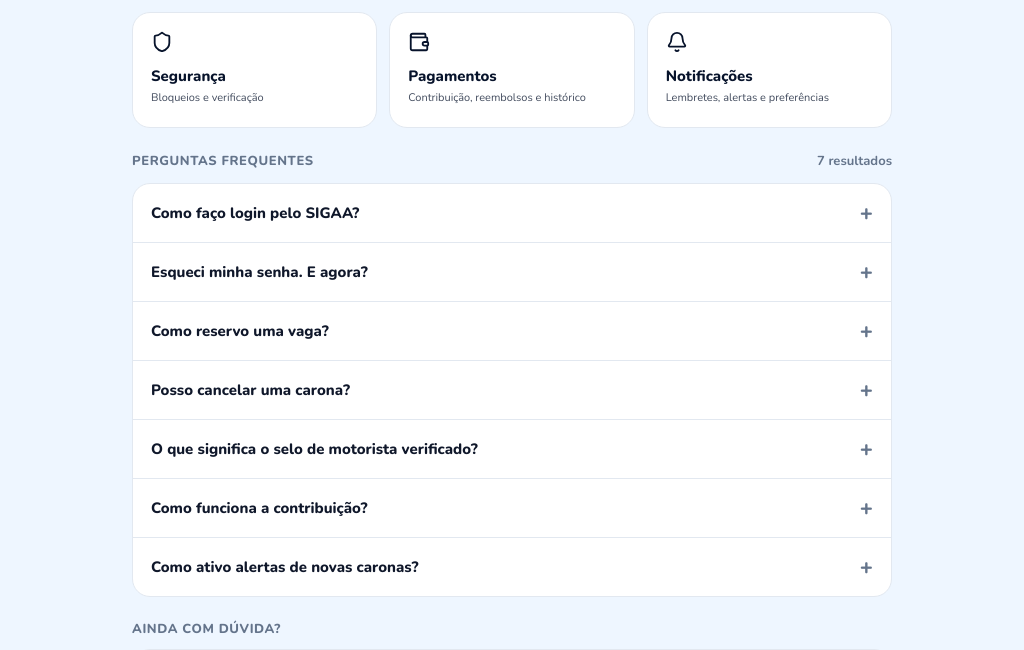
Test case: CentralAjuda › permite expandir uma pergunta do FAQ
This screenshot has width=1024, height=650.
(page scrolled)
Click the heading "Como funciona a contribuição?" at (259, 508), box [151, 498, 368, 518]
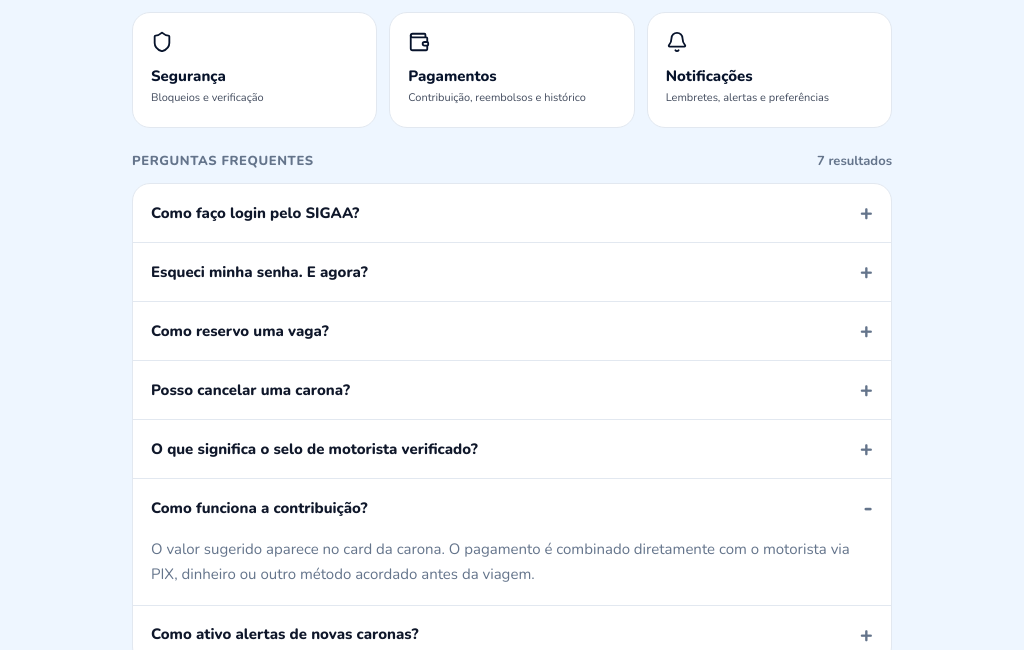
Now the text "O valor sugerido aparece no card da carona" is shown, box [151, 539, 850, 584]
